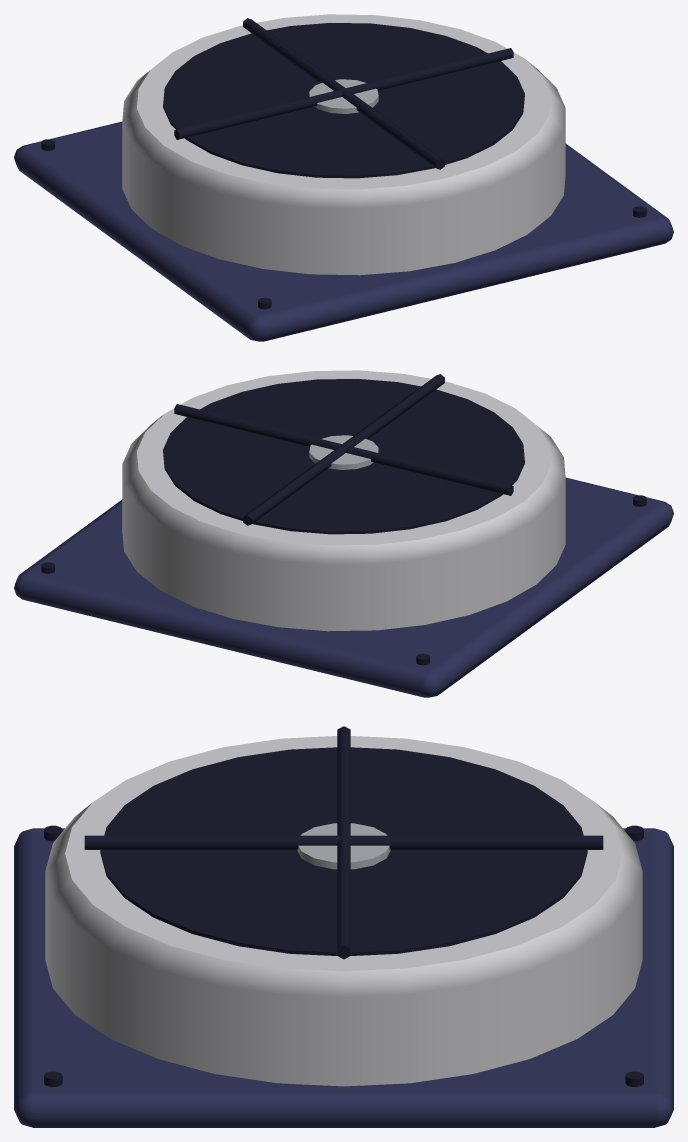
The model's file is roof.small.fan.glb.
3 renders of one model, top to bottom at view 1: azimuth 30°, elevation 25°; view 2: azimuth 150°, elevation 25°; view 3: azimuth 270°, elevation 25°, orthographic. The views are drawn at different scales.
Parts seen in each view (by area): view 1: roof.small.fan; view 2: roof.small.fan; view 3: roof.small.fan.
Boxes of the visible parts, <box> form: roof.small.fan: <box>14,14,673,341</box>; roof.small.fan: <box>14,370,673,697</box>; roof.small.fan: <box>14,726,673,1127</box>.
Bounding box in the file's own units: 0.84 × 0.225 × 0.84.
